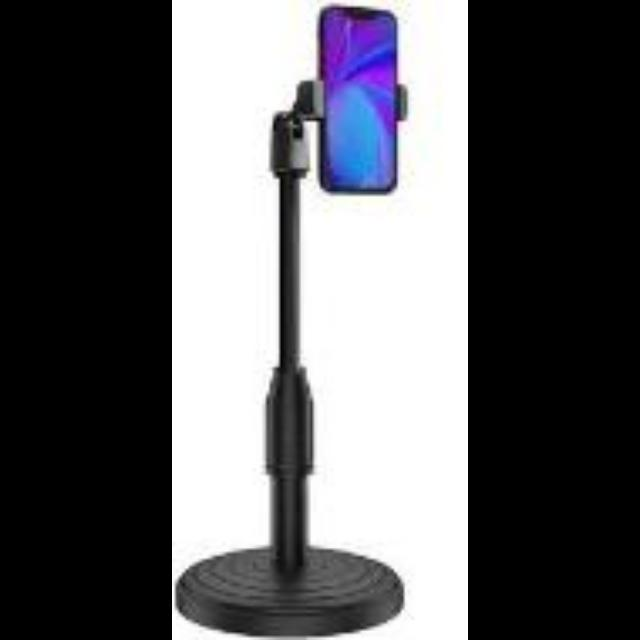Phone: (321, 4, 401, 192)
